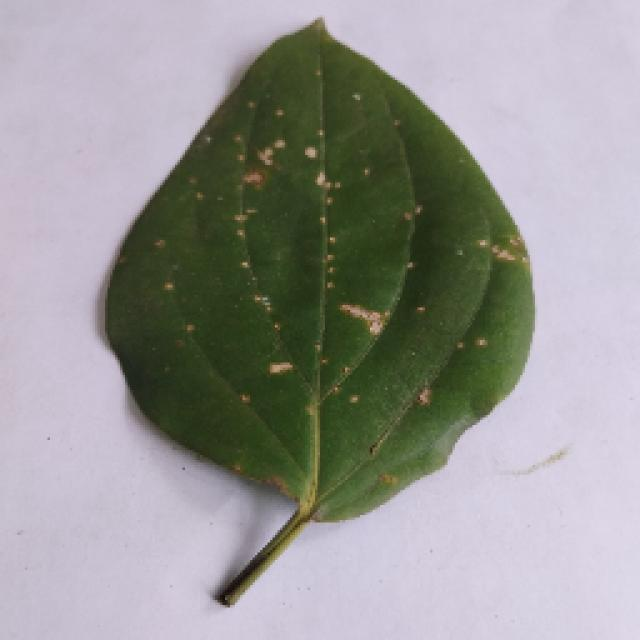pollu-disease: (78, 28, 558, 608)
